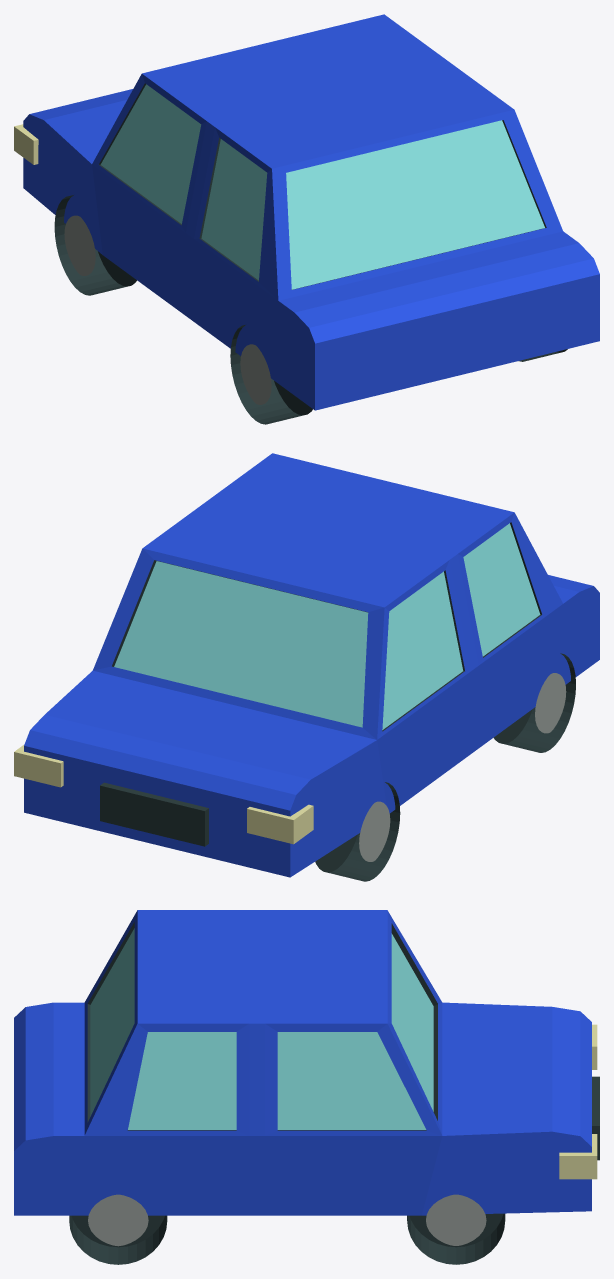
File: blue car.fbx
The picture shows the model from 3 angles, top to bottom: view 1: azimuth 30°, elevation 25°; view 2: azimuth 150°, elevation 25°; view 3: azimuth 270°, elevation 25°; orthographic projection. The views are drawn at different scales.
Parts seen in each view (by area): view 1: Cube; view 2: Cube; view 3: Cube.
Part boxes in pixels (x1,y1,x2,y2): Cube: [14, 14, 599, 424]; Cube: [14, 453, 599, 881]; Cube: [14, 910, 599, 1264].
Size of the model in its own units: 207 by 160 by 371.
